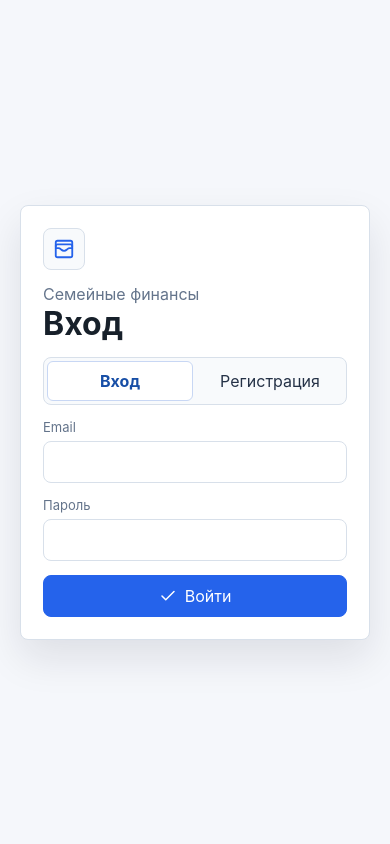
Test case: PWA finance experience › handles accepted duplicate-style registration neutrally and offers sign in
The width and height of the screenshot is (390, 844).
Click the button "Регистрация".
click(270, 380)  # box [197,360,343,400]
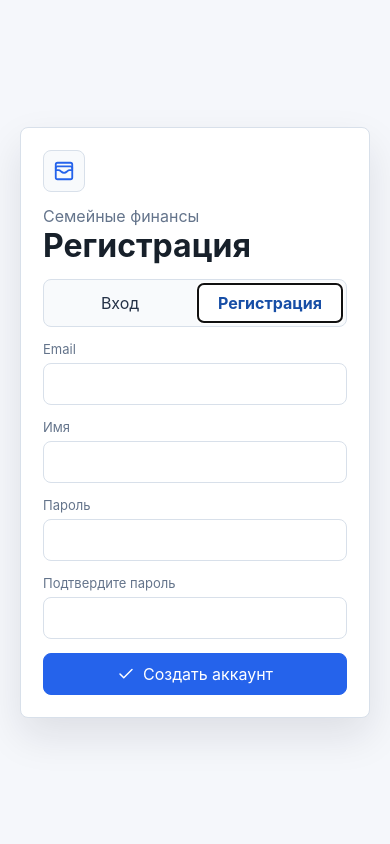
Type "known@example.test" into the field labelled "Email".
click(195, 384); type("known@example.test")  # box [43,362,347,404]
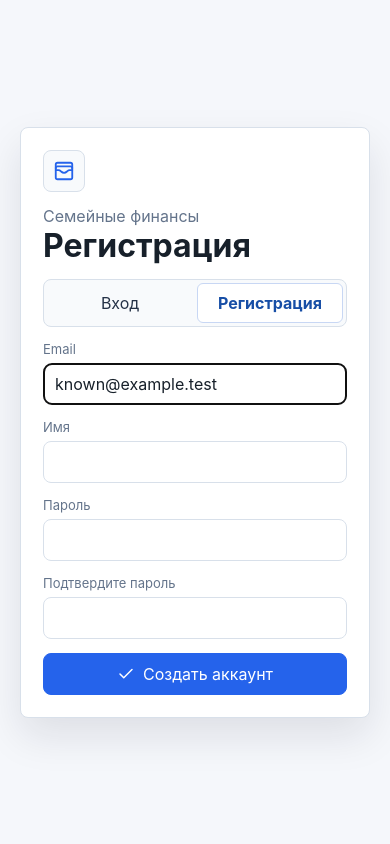
Type "dummy-password-12" into the password field labelled "Пароль".
click(195, 540); type("dummy-password-12")  # box [43,518,347,560]
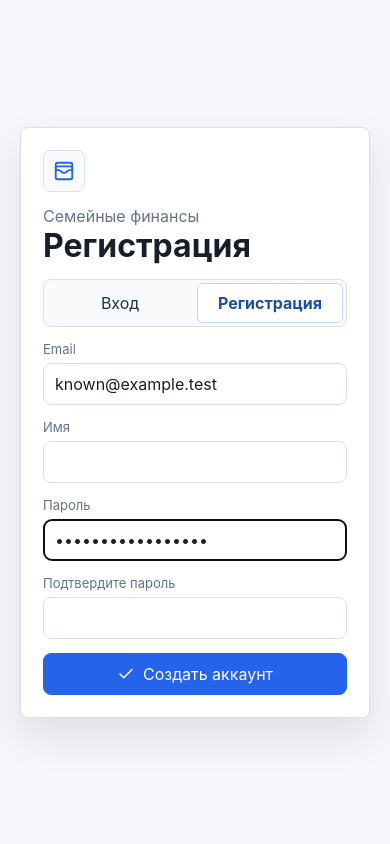
Type "dummy-password-12" into the password field labelled "Подтвердите пароль".
click(195, 618); type("dummy-password-12")  # box [43,596,347,638]
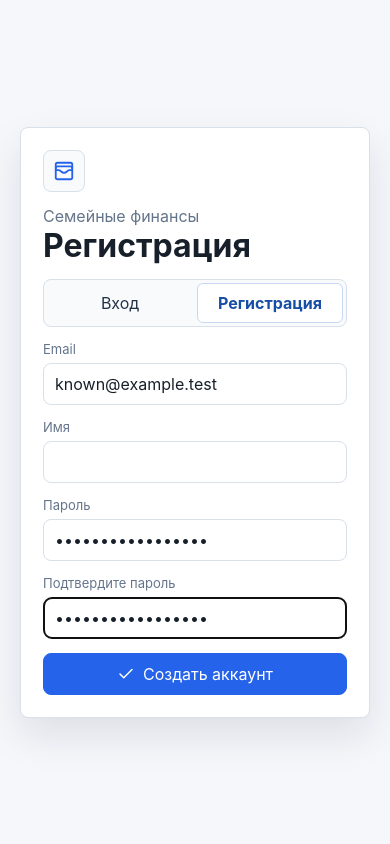
Click the button with aria-label "Create account".
click(195, 674)  # box [43,652,347,694]
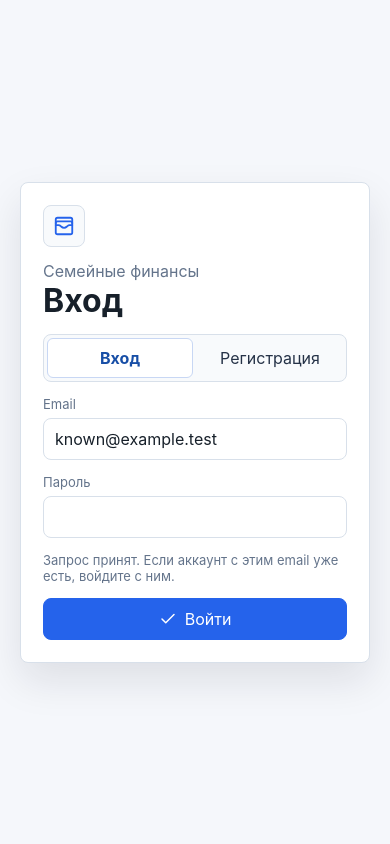
Expected: the form named "Вход в финансы" is shown, [20,182,370,662]
Expected: the text "Запрос принят. Если аккаунт с этим email уже есть, войдите с ним." is shown, [43,552,347,584]
